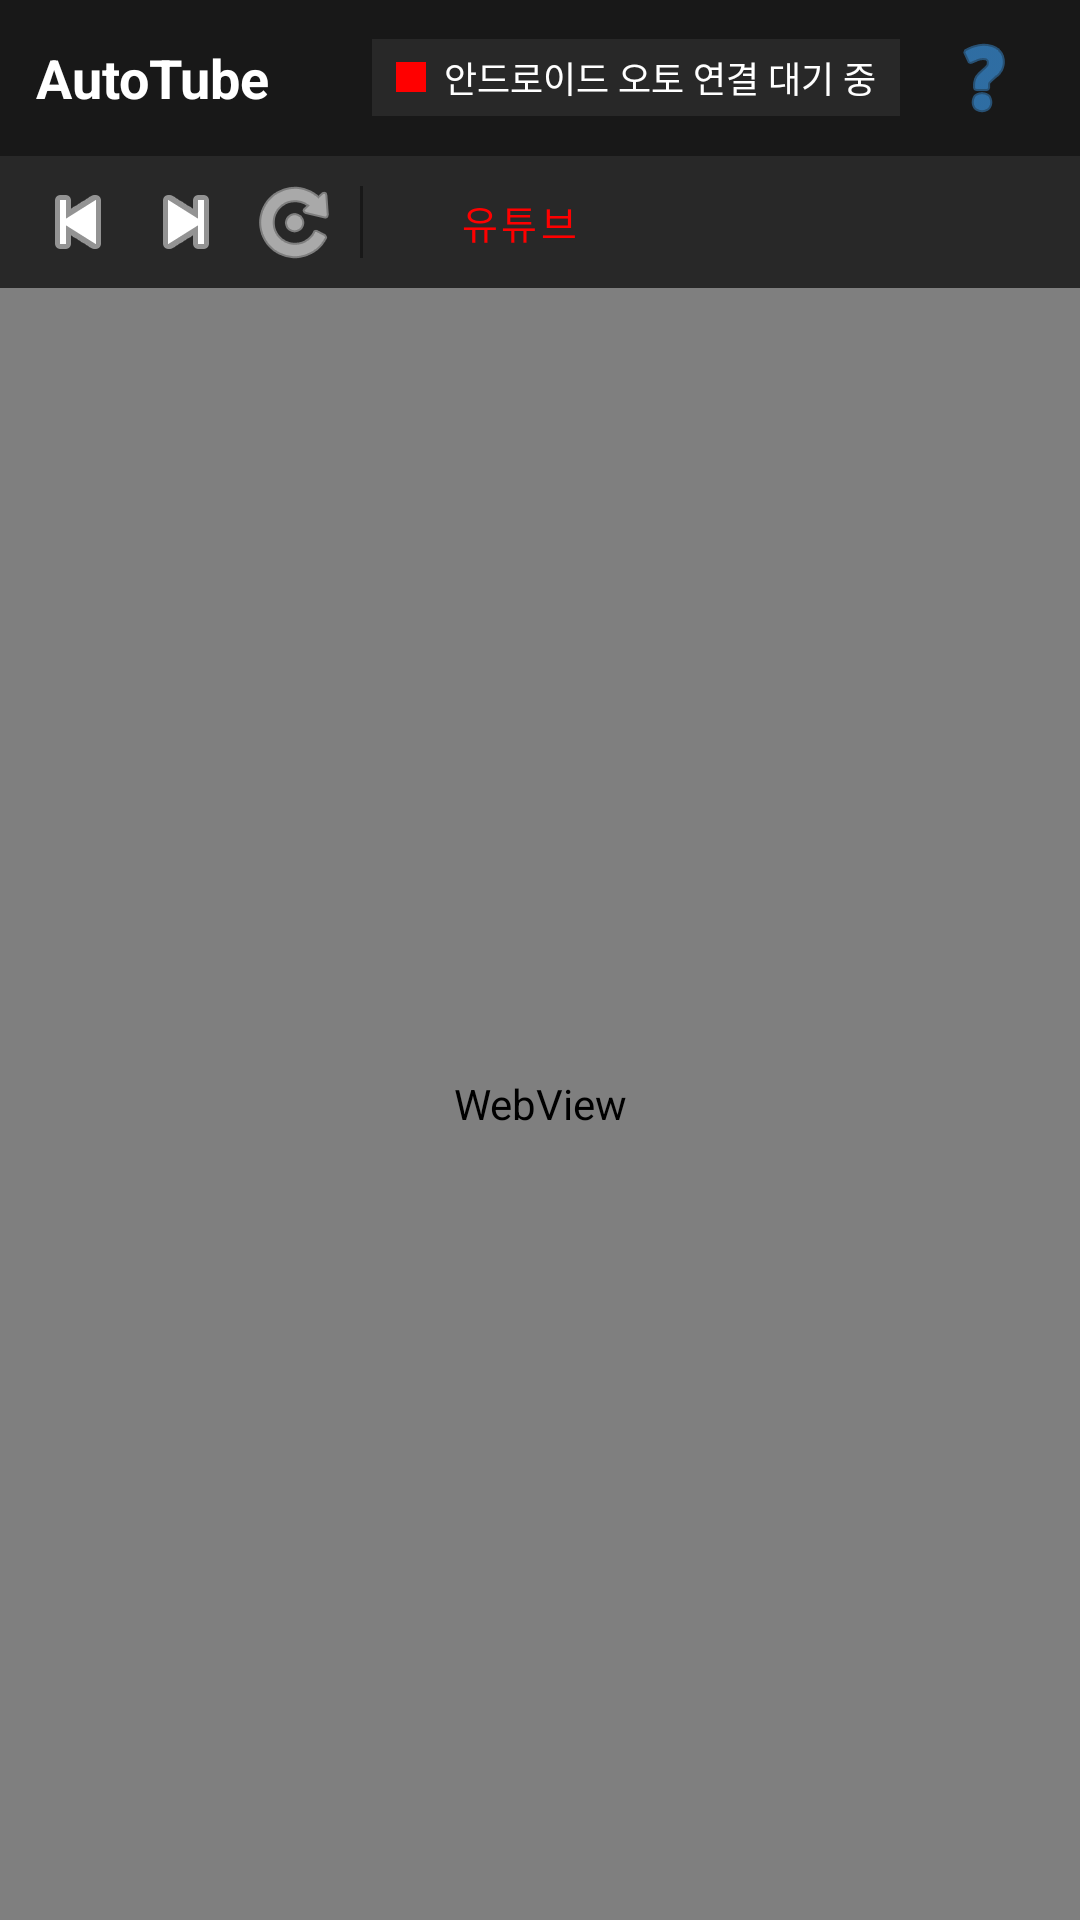

Screen size 1080w x 1920h. Icon name, then its box in pixels as (x1, y1, x2, y2):
뒤로가기: (55, 195, 101, 249)
앞으로가기: (163, 195, 209, 249)
테스트 가이드: (963, 44, 1005, 112)
